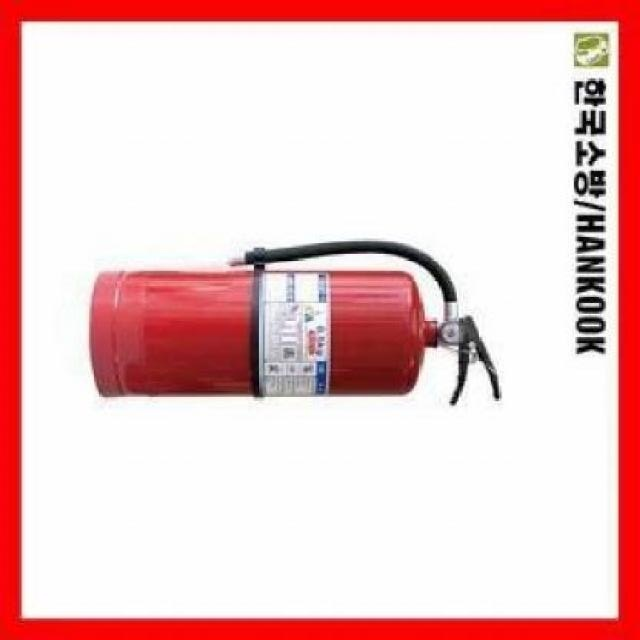fire extinguisher: (89, 238, 503, 407)
